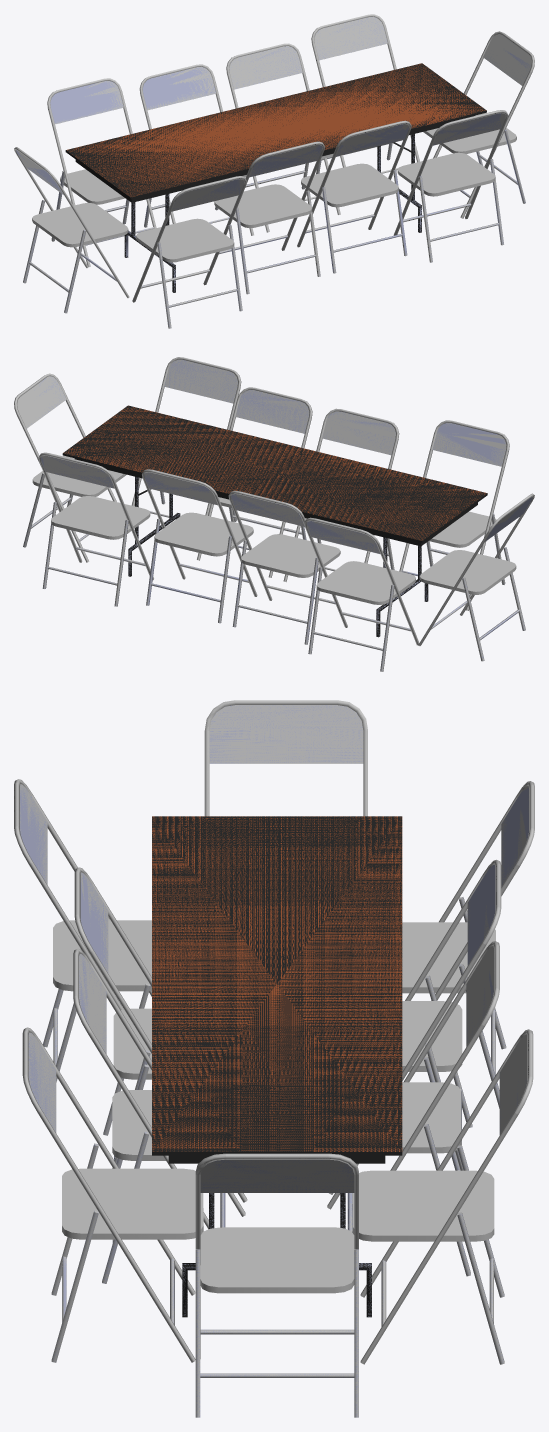
The model's file is Chair Set.fbx.
3 views of the same model, one above another, from view 1: azimuth 30°, elevation 25°; view 2: azimuth 150°, elevation 25°; view 3: azimuth 270°, elevation 25° (orthographic). The views are drawn at different scales.
Parts seen in each view (by area): view 1: Group_3_1, Group15, Group17, Group13, Group11, Group2, Group4, Group18, Group6, Group8, Group21, Group5 (+8 smaller); view 2: Group_3_1, Group5, Group3, Group7, Group9, Group14, Group16, Group10, Group18, Group12, Group21, Group15 (+8 smaller); view 3: Group_3_1, Group19, Group20, Group16, Group2, Group21, Group17, Group3, Group4, Group13, Group14, Group11 (+14 smaller).
Part boxes in pixels (x1=…): Group_3_1: x1=65, y1=63, x2=486, y2=202; Group15: x1=47, y1=78, x2=156, y2=267; Group17: x1=311, y1=14, x2=419, y2=167; Group13: x1=226, y1=43, x2=340, y2=232; Group11: x1=139, y1=64, x2=253, y2=235; Group2: x1=397, y1=152, x2=495, y2=196; Group4: x1=136, y1=218, x2=234, y2=262; Group18: x1=32, y1=202, x2=128, y2=247; Group6: x1=301, y1=163, x2=398, y2=207; Group8: x1=214, y1=184, x2=312, y2=228; Group21: x1=433, y1=31, x2=534, y2=218; Group5: x1=132, y1=176, x2=246, y2=302; Group_3_1: x1=62, y1=405, x2=487, y2=546; Group5: x1=399, y1=420, x2=509, y2=610; Group3: x1=131, y1=357, x2=241, y2=515; Group7: x1=197, y1=387, x2=312, y2=577; Group9: x1=283, y1=408, x2=399, y2=581; Group14: x1=316, y1=561, x2=415, y2=604; Group16: x1=51, y1=496, x2=150, y2=539; Group10: x1=241, y1=534, x2=340, y2=577; Group18: x1=419, y1=550, x2=516, y2=594; Group12: x1=154, y1=512, x2=253, y2=556; Group21: x1=14, y1=373, x2=116, y2=562; Group15: x1=304, y1=517, x2=419, y2=645; Group_3_1: x1=152, y1=816, x2=402, y2=1163; Group19: x1=204, y1=700, x2=367, y2=816; Group20: x1=200, y1=1227, x2=354, y2=1293; Group16: x1=352, y1=1170, x2=494, y2=1241; Group2: x1=62, y1=1168, x2=203, y2=1239; Group21: x1=195, y1=1153, x2=358, y2=1358; Group17: x1=360, y1=1029, x2=533, y2=1364; Group3: x1=22, y1=1027, x2=195, y2=1362; Group4: x1=53, y1=920, x2=151, y2=991; Group13: x1=327, y1=941, x2=499, y2=1234; Group14: x1=402, y1=922, x2=495, y2=993; Group11: x1=329, y1=859, x2=501, y2=1194.
Size of the model in its own units: 129 by 36.49 by 62.44.
